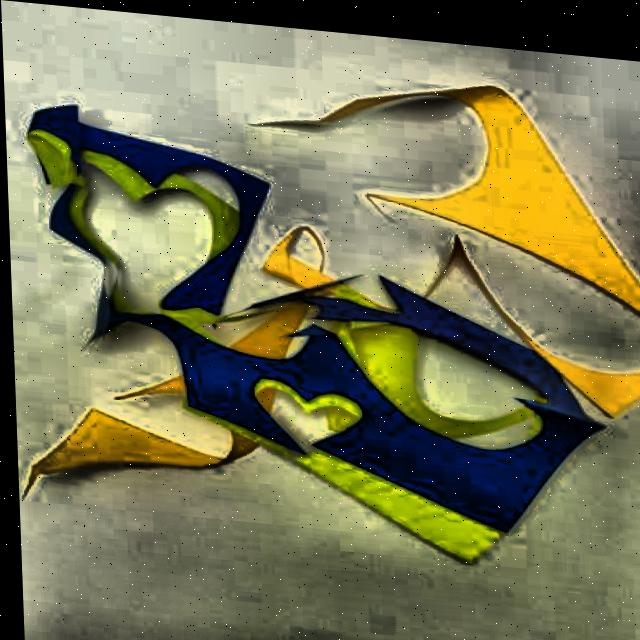paper: (1, 38, 640, 583)
